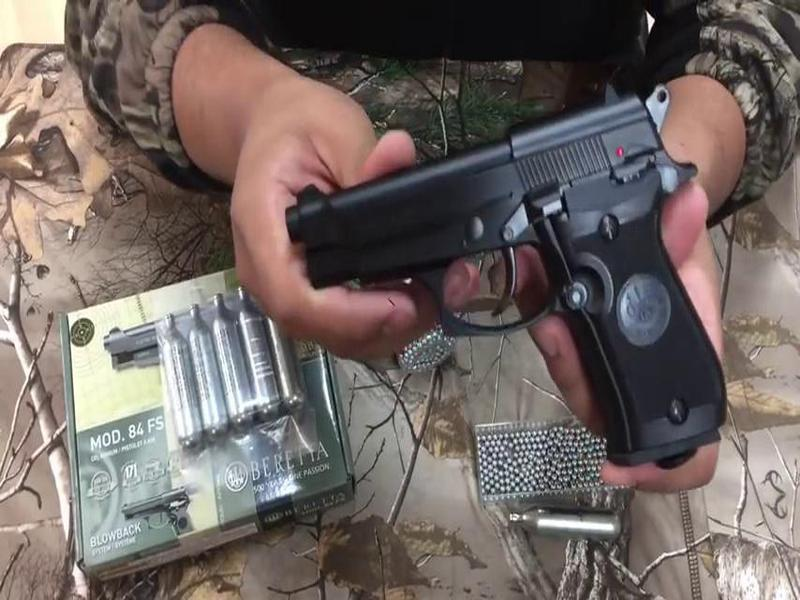Pistola: (266, 96, 742, 464)
